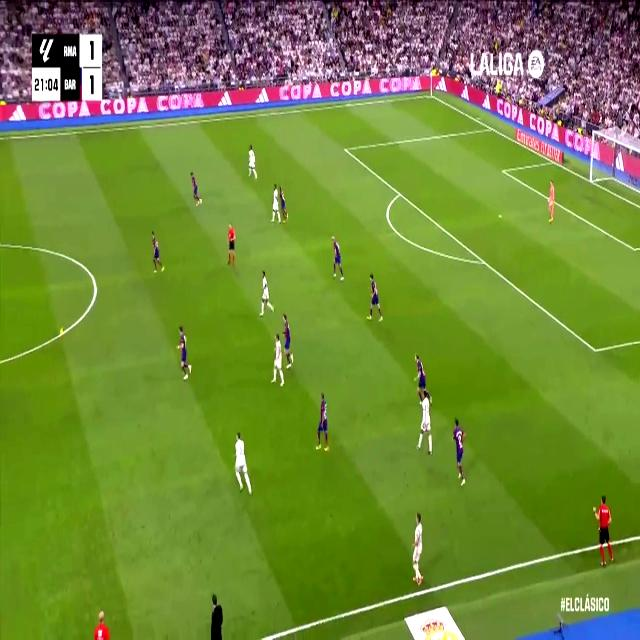bigarea_bottom_inner: (590, 338, 600, 362)
bigarea_top_inner: (342, 143, 348, 156)
bigarea_top_outter: (487, 121, 495, 133)
bottom_arc_area_intersection: (479, 253, 488, 270)
corner: (427, 89, 435, 100)
smallarea_bottom_inner: (631, 240, 639, 258)
smallarea_top_inner: (500, 164, 507, 176)
top_arc_area_intersection: (396, 186, 403, 200)
